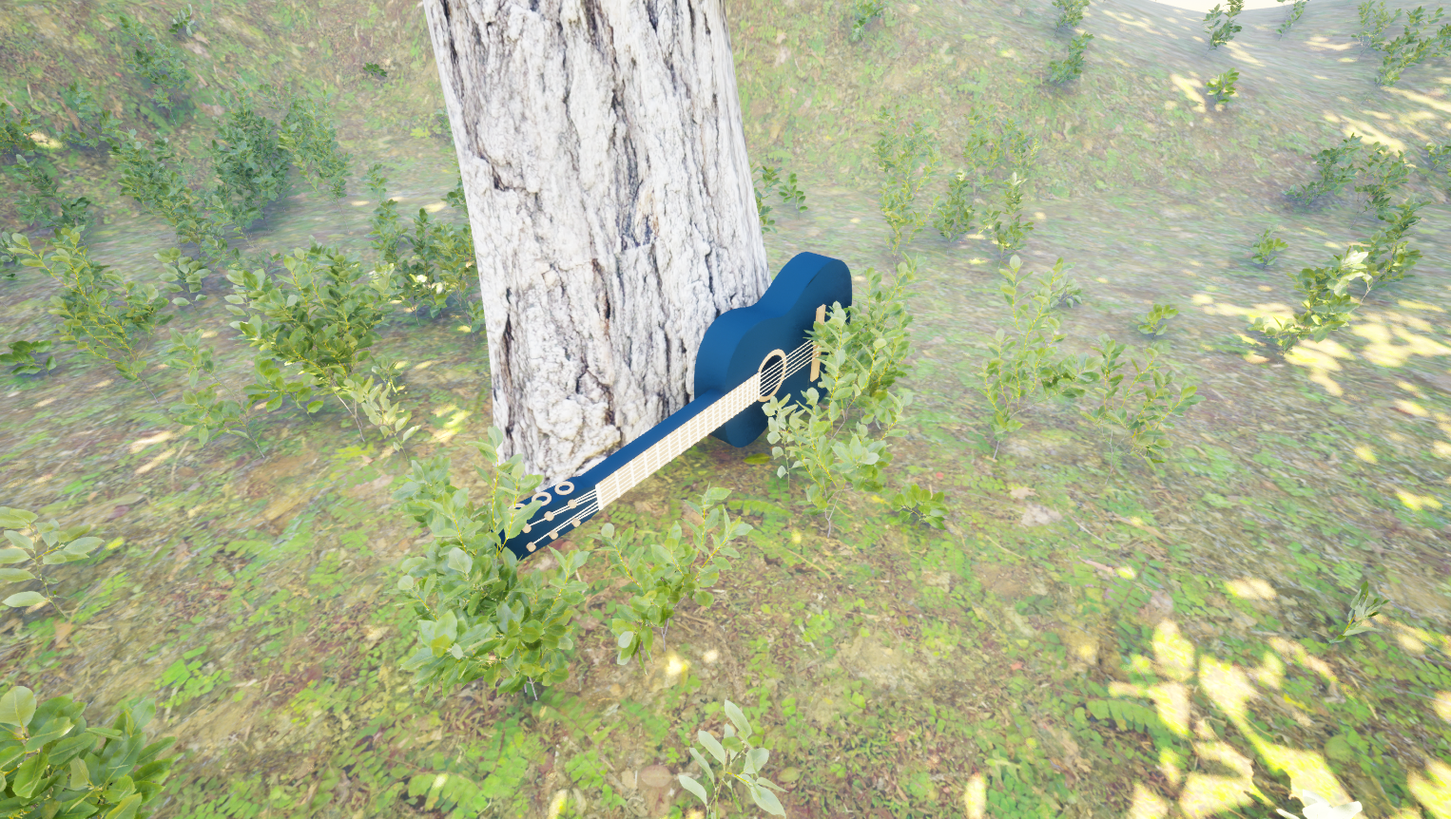Guitar: (445, 238, 862, 644)
